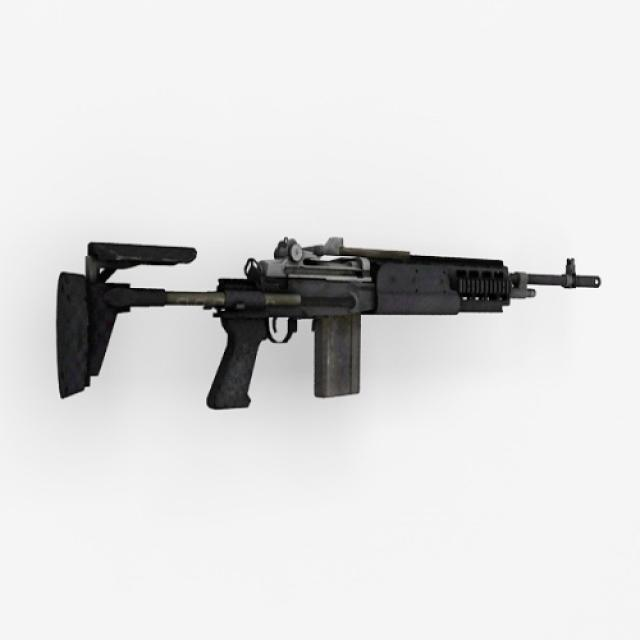Gun: (51, 209, 619, 453)
